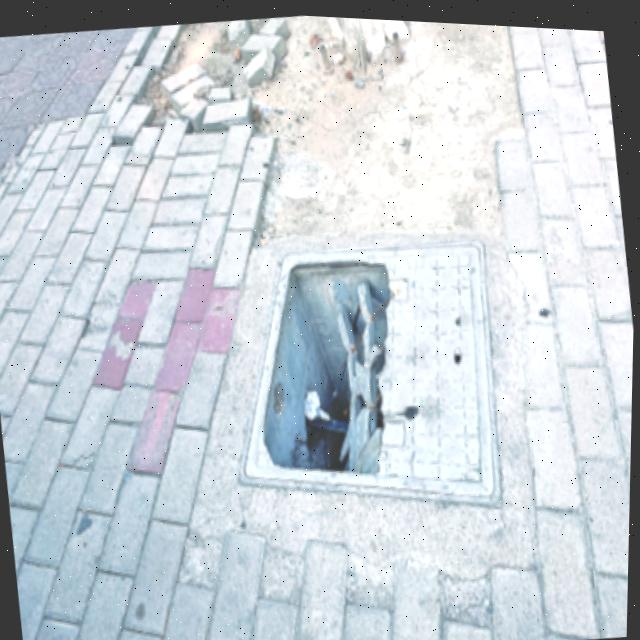manhole: (210, 209, 529, 531)
